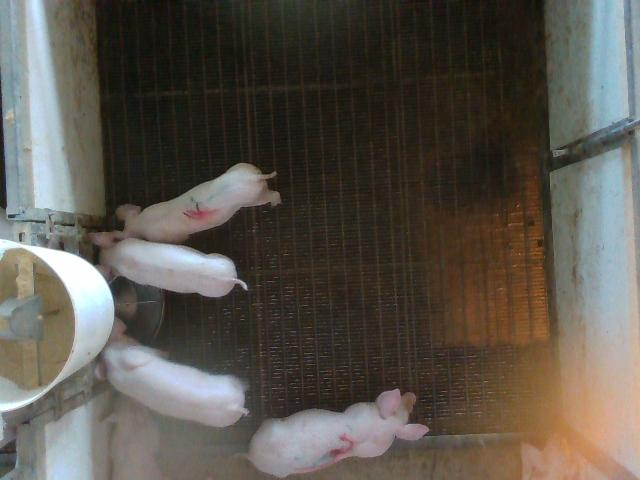pig-3: (244, 389, 429, 477)
pig-4: (118, 162, 280, 243)
